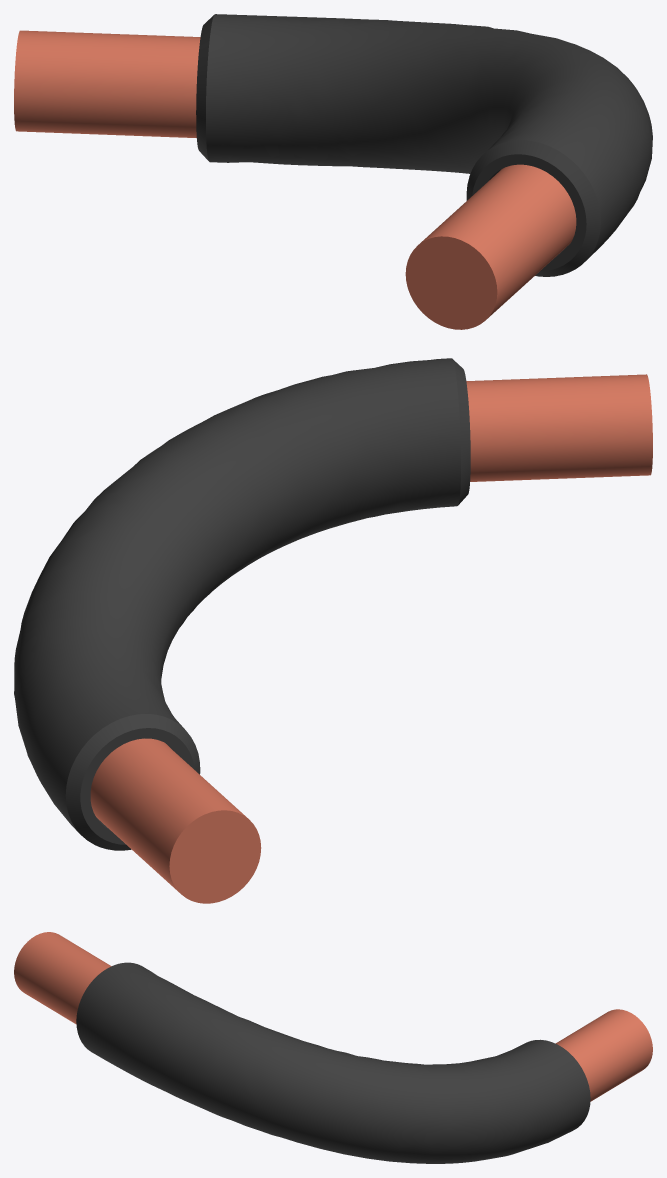
File: BATTERY CRATE STACK V2__BATTERY CRATE L2__MODULE CONNECTION CABLE ASM B__MODULE CONNECTION CABLE B.glb
3 views of the same model, one above another, from view 1: azimuth 30°, elevation 25°; view 2: azimuth 150°, elevation 25°; view 3: azimuth 270°, elevation 25° (orthographic). The views are drawn at different scales.
Parts seen in each view (by area): view 1: MODULE CONNECTION CABLE B; view 2: MODULE CONNECTION CABLE B; view 3: MODULE CONNECTION CABLE B.
Boxes of the visible parts, x1,y1,x2,y2 form: MODULE CONNECTION CABLE B: (14,14,652,329); MODULE CONNECTION CABLE B: (14,358,652,903); MODULE CONNECTION CABLE B: (14,932,652,1163).
Bounding box in the file's own units: 0.0618 × 0.038 × 0.131.
